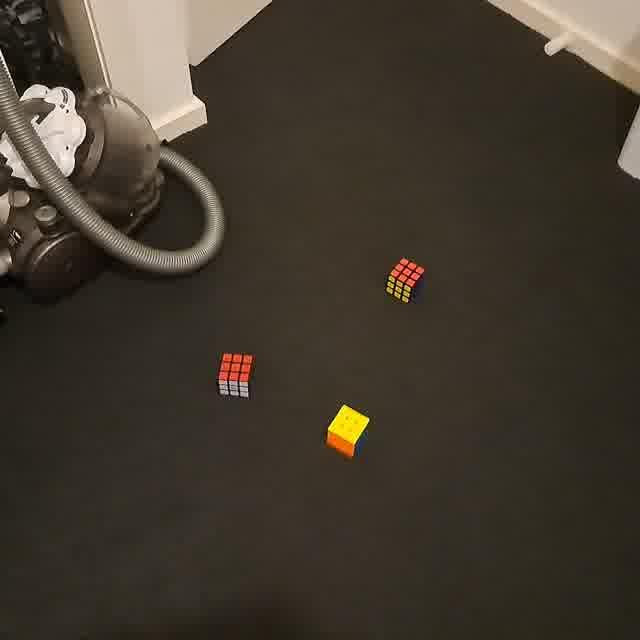rubix_cube: (324, 402, 372, 462), (215, 350, 259, 404), (382, 254, 426, 306)
